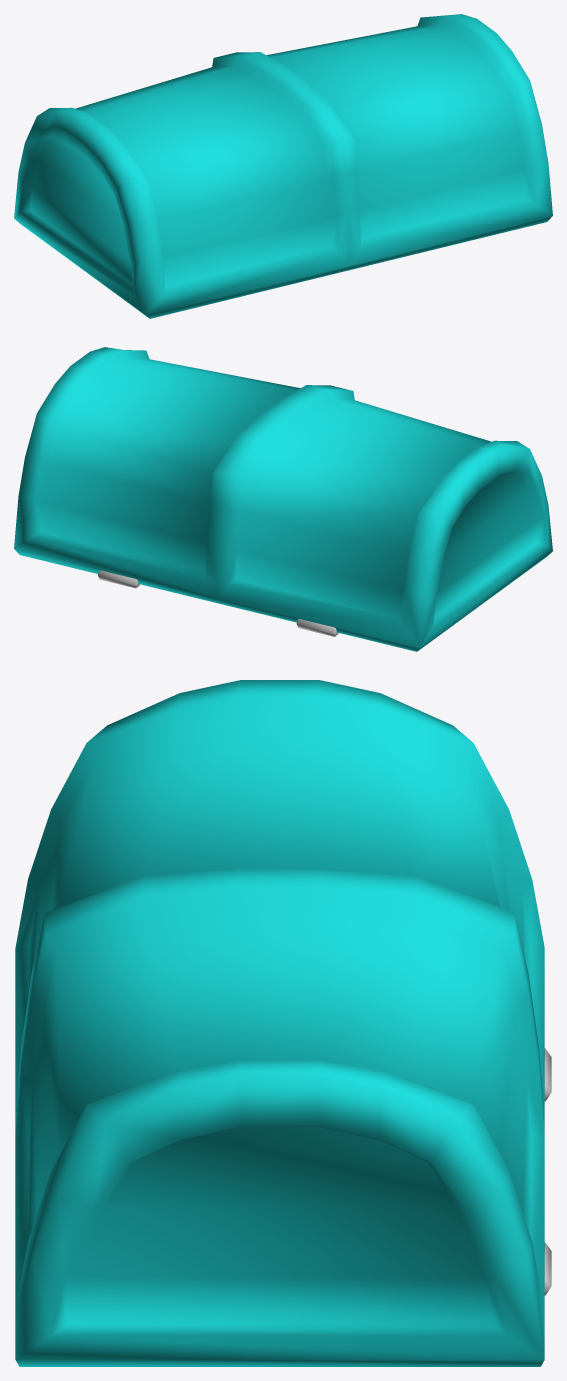
The model's file is dfk_chest_03_top.fbx.
The picture shows the model from 3 angles, top to bottom: view 1: azimuth 30°, elevation 25°; view 2: azimuth 150°, elevation 25°; view 3: azimuth 270°, elevation 25°; orthographic projection. The views are drawn at different scales.
Parts seen in each view (by area): view 1: Chest_03_top; view 2: Chest_03_top; view 3: Chest_03_top.
Part boxes in pixels (bbox=[...]): Chest_03_top: bbox=[14, 14, 552, 318]; Chest_03_top: bbox=[14, 347, 552, 651]; Chest_03_top: bbox=[15, 680, 551, 1366].
Size of the model in its own units: 0.915 by 0.3197 by 0.5137.
